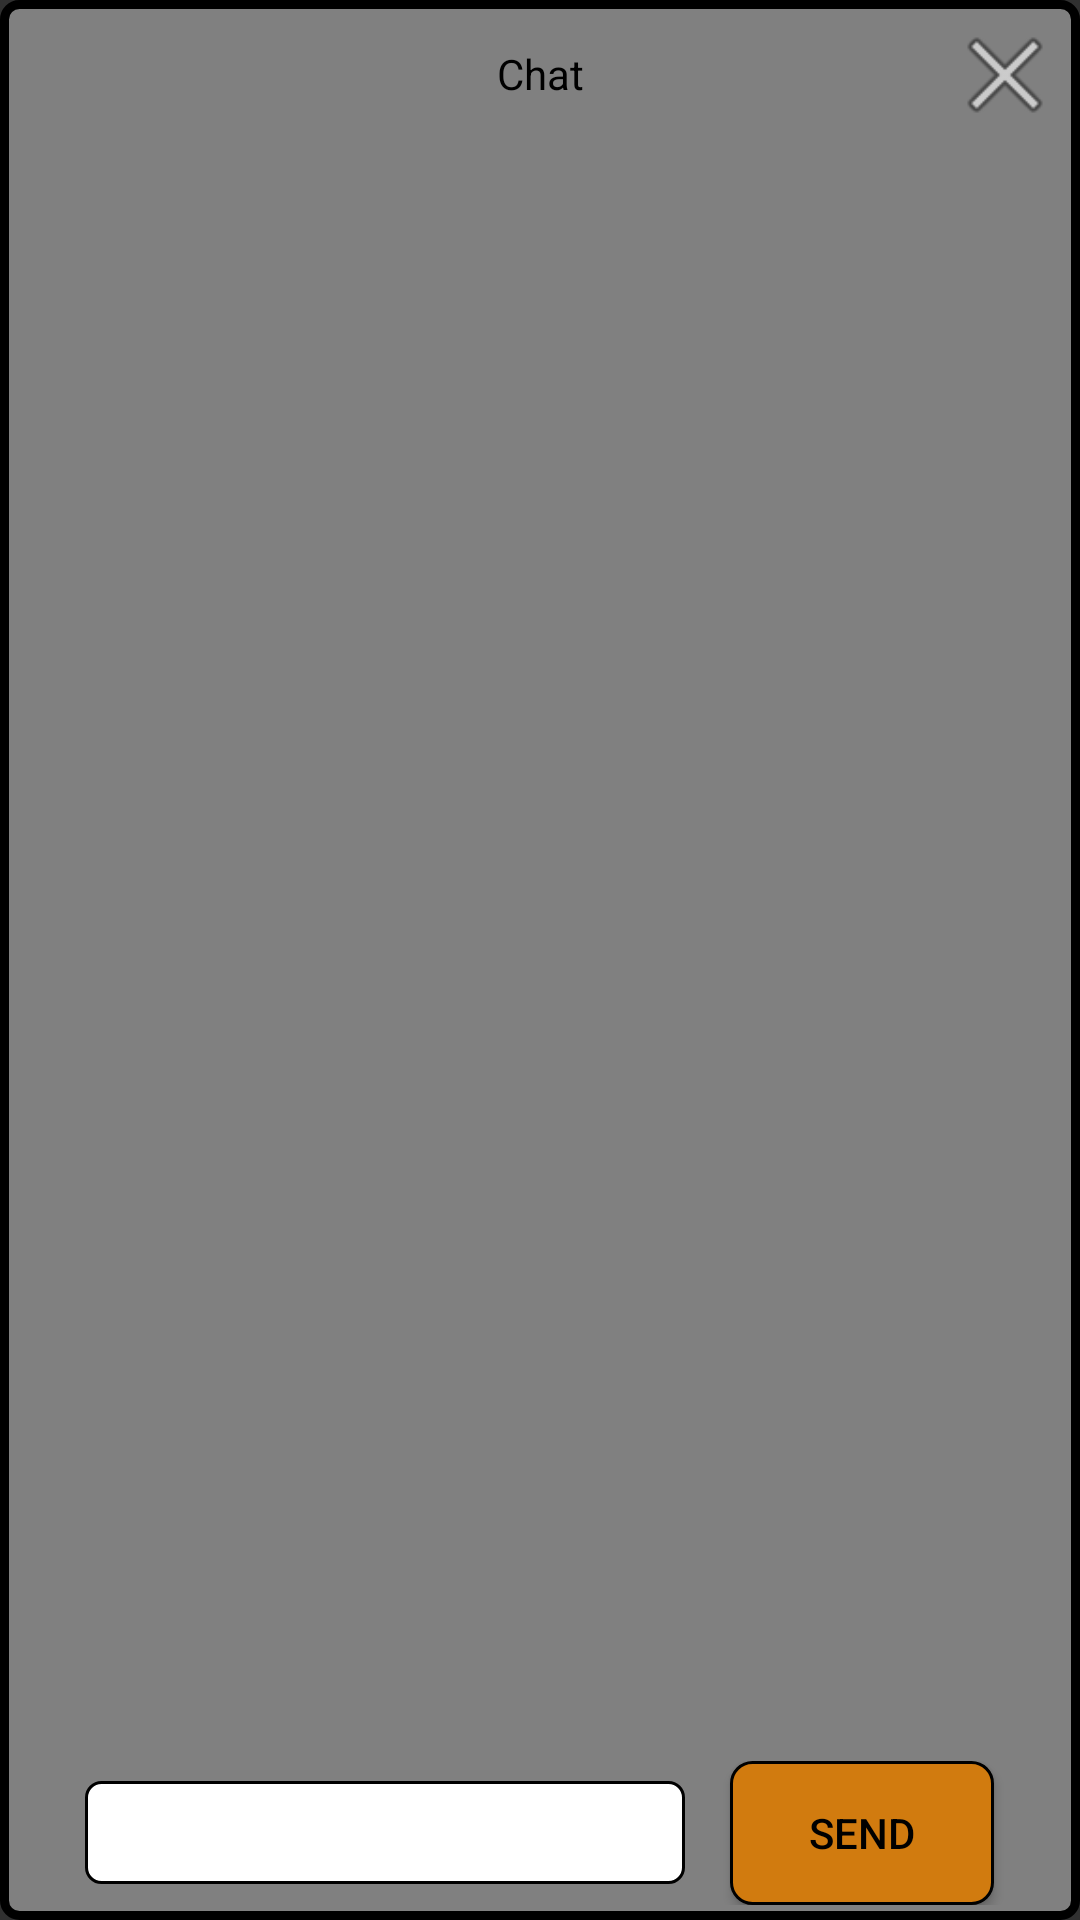

Screen size 1080x1920. Icon name, then its box in pixels as (x1, y1, x2, y2):
close clear cancel: (968, 38, 1042, 112)
